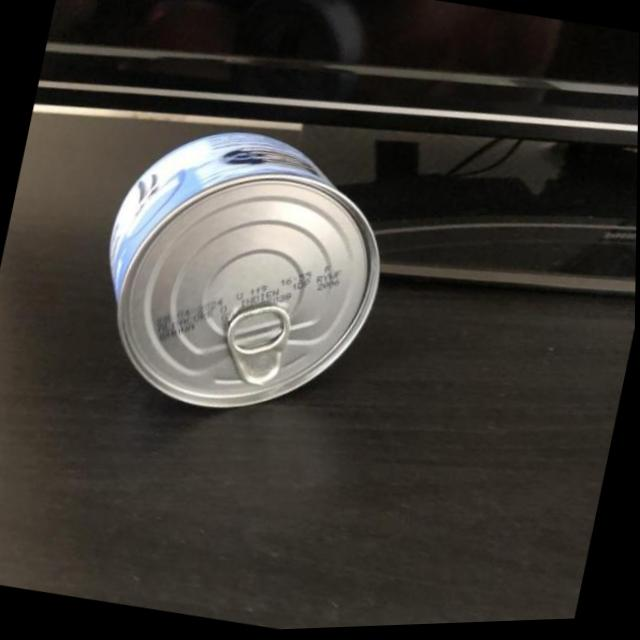metal: (110, 132, 378, 407)
